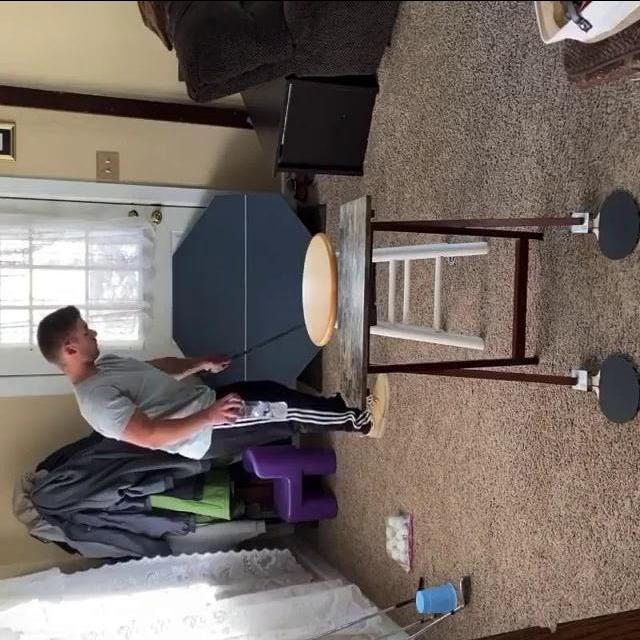golf club-handle: (193, 321, 306, 377)
